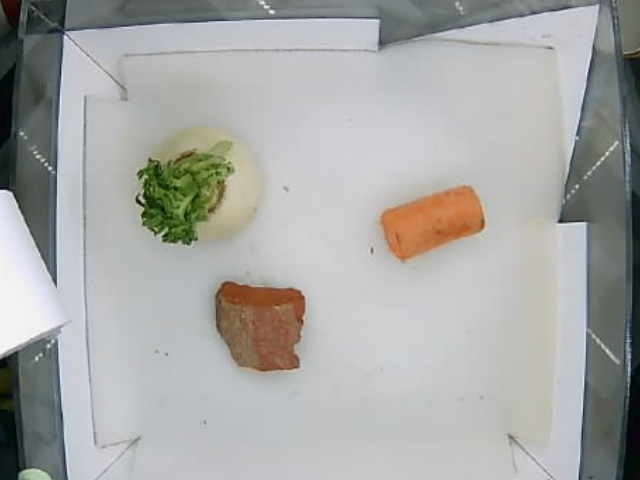Brisk: (213, 277, 302, 373)
Carrot: (384, 185, 486, 259)
Mooli: (134, 124, 266, 248)
